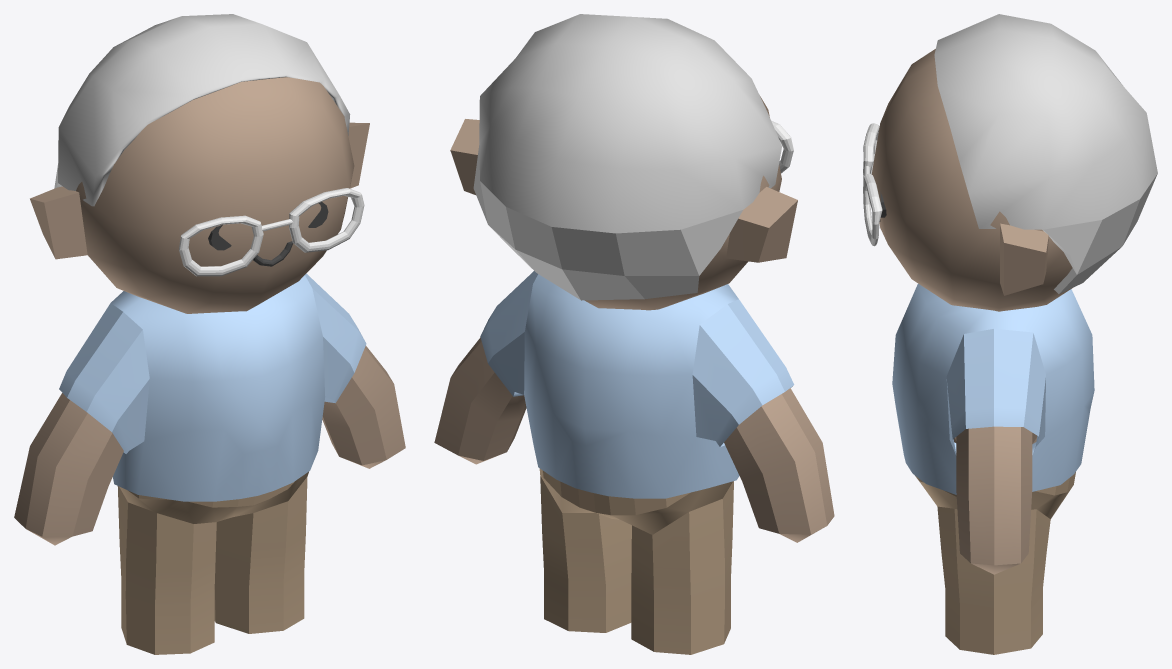
Rendered from rajiv.fbx.
3 renders of one model, left to right at view 1: azimuth 30°, elevation 25°; view 2: azimuth 150°, elevation 25°; view 3: azimuth 270°, elevation 25°, orthographic. The views are drawn at different scales.
Parts seen in each view (by area): view 1: Head, Shirt, Pants, Hair, Body, pTorus4; view 2: Hair, Shirt, Pants, Body, Head; view 3: Hair, Shirt, Head, Pants, Body, pTorus4.
Boxes of the visible parts, box(x1,y1,x2,y2) form: Head: box(30, 77, 369, 313); Shirt: box(59, 273, 366, 501); Pants: box(117, 471, 308, 654); Hair: box(54, 14, 350, 206); Body: box(14, 345, 405, 545); pTorus4: box(179, 188, 364, 276); Hair: box(473, 14, 781, 300); Shirt: box(480, 271, 794, 498); Pants: box(539, 468, 733, 654); Body: box(434, 337, 834, 542); Head: box(450, 96, 797, 310); Hair: box(934, 14, 1157, 293); Shirt: box(892, 283, 1094, 494); Head: box(871, 49, 1072, 311); Pants: box(915, 472, 1075, 654); Body: box(953, 426, 1037, 574); pTorus4: box(863, 123, 882, 246).
Size of the model in its own units: 3.39 by 5.29 by 2.36.
